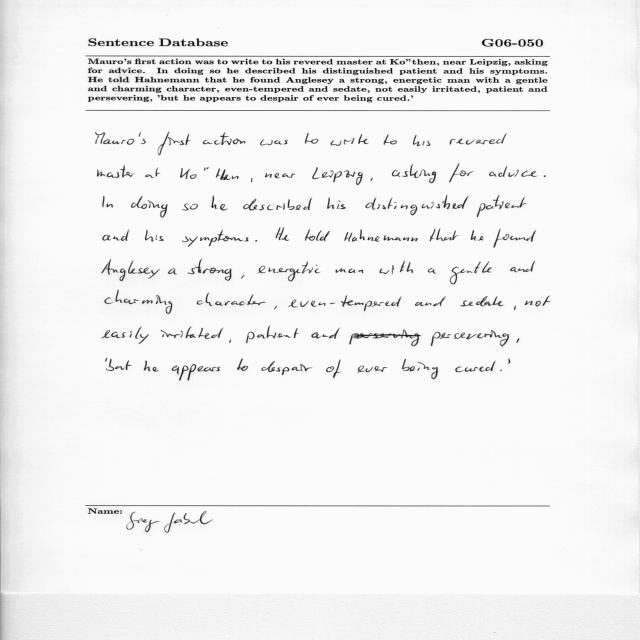word: (349, 330, 509, 347), (365, 195, 469, 215), (288, 295, 402, 311), (105, 290, 173, 314), (257, 261, 321, 282), (102, 259, 160, 281), (182, 229, 249, 247), (477, 195, 527, 217), (188, 259, 232, 281), (450, 262, 492, 285), (312, 167, 363, 185), (246, 326, 299, 343), (243, 198, 312, 211), (197, 293, 266, 306), (344, 230, 418, 242), (392, 164, 436, 183), (172, 364, 221, 381), (160, 326, 224, 339), (494, 229, 537, 248), (102, 327, 149, 344), (131, 196, 167, 218), (180, 167, 239, 180), (158, 132, 191, 155), (402, 359, 438, 379), (262, 361, 313, 375), (95, 132, 146, 145), (449, 134, 507, 145), (203, 132, 246, 145), (489, 166, 537, 177), (455, 361, 496, 373), (97, 165, 134, 178), (449, 164, 474, 183), (331, 134, 369, 146), (379, 261, 413, 274), (460, 296, 503, 306), (430, 229, 459, 242), (103, 229, 130, 241), (311, 328, 340, 339), (305, 229, 330, 241), (415, 297, 445, 307), (106, 359, 131, 371), (510, 261, 535, 272), (525, 296, 550, 307), (326, 360, 341, 378), (211, 196, 228, 211), (145, 230, 164, 242), (358, 366, 388, 373), (327, 198, 346, 209), (260, 139, 288, 146), (413, 135, 430, 146), (276, 227, 289, 241), (146, 167, 161, 178), (144, 361, 159, 372), (265, 173, 295, 178), (335, 268, 364, 273), (305, 133, 318, 144), (384, 134, 397, 145), (471, 230, 484, 241), (237, 358, 248, 371), (182, 204, 198, 211), (103, 196, 113, 207), (168, 269, 177, 275), (428, 268, 437, 274), (516, 338, 519, 343), (241, 275, 244, 279), (274, 306, 277, 310), (508, 359, 510, 364), (370, 178, 373, 181), (514, 306, 516, 310), (229, 340, 231, 343), (251, 178, 252, 182), (544, 176, 546, 178), (255, 240, 257, 242), (106, 358, 107, 362), (500, 370, 502, 371)
